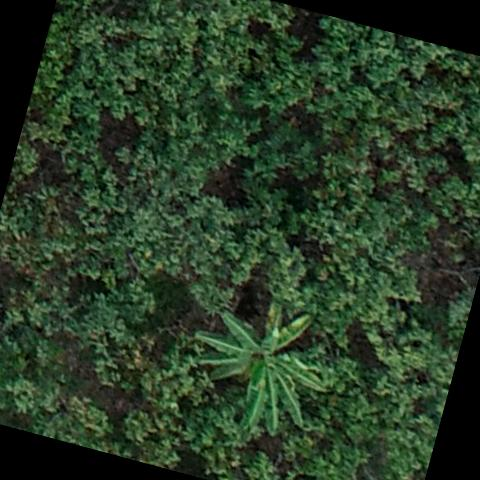Banana-plant: (172, 280, 346, 450)
